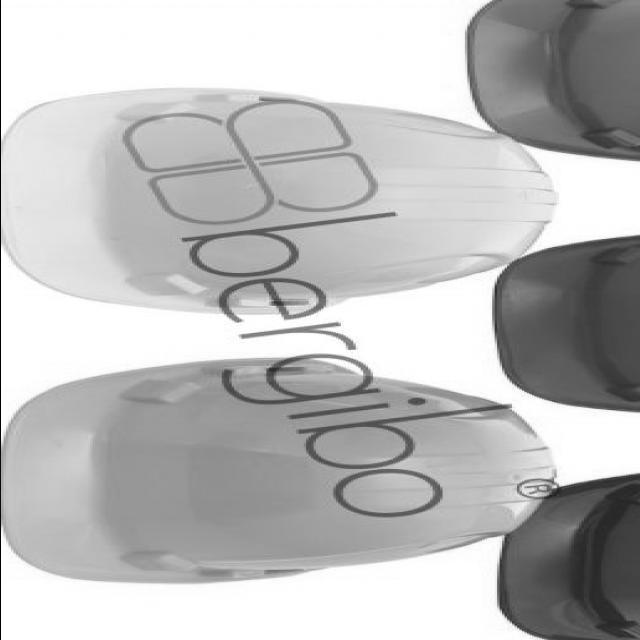safety_helmet: (0, 85, 556, 321), (0, 355, 556, 587)
